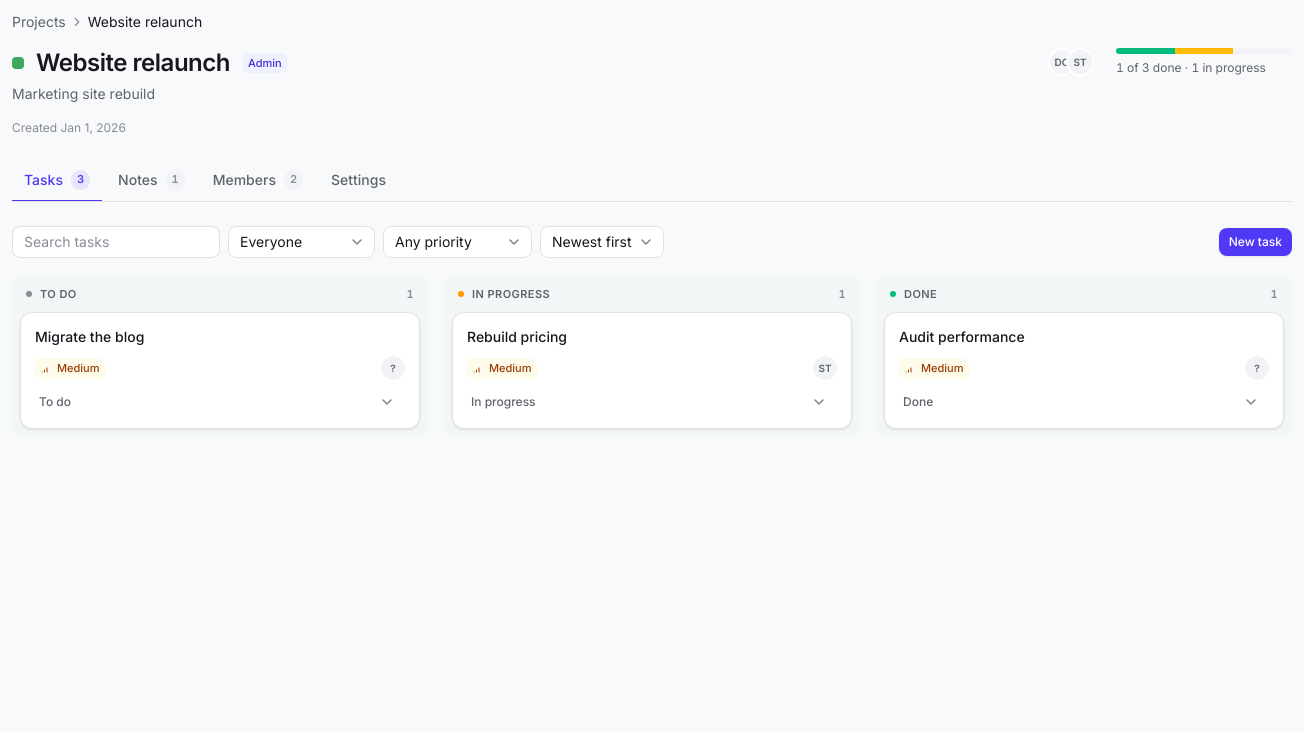
Test: ProjectDetail › says why when the server refuses a move
The width and height of the screenshot is (1304, 732).
Select "Done" in the dropdown named "Status for Migrate the blog" at point(216, 402), box top-left (31, 390), bottom-right (401, 414)
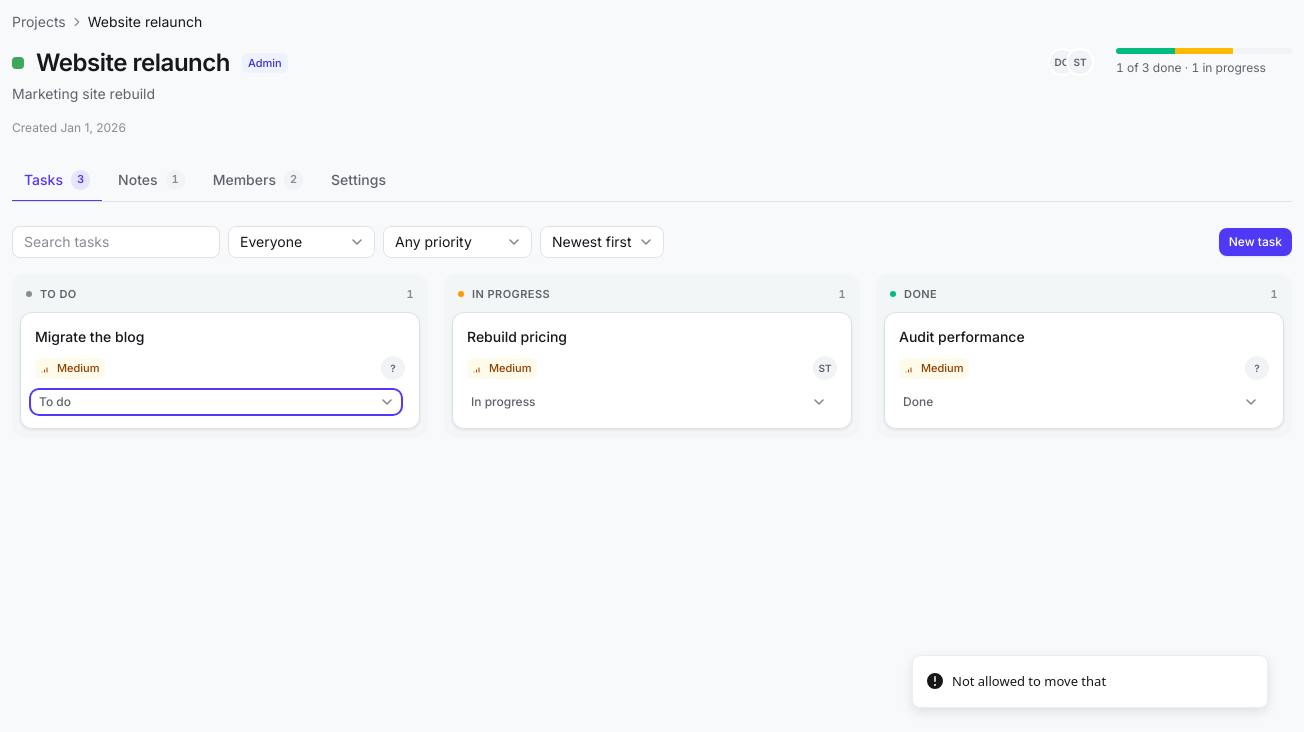
Now the text "Not allowed to move that" is shown, box top-left (952, 672), bottom-right (1106, 691)
